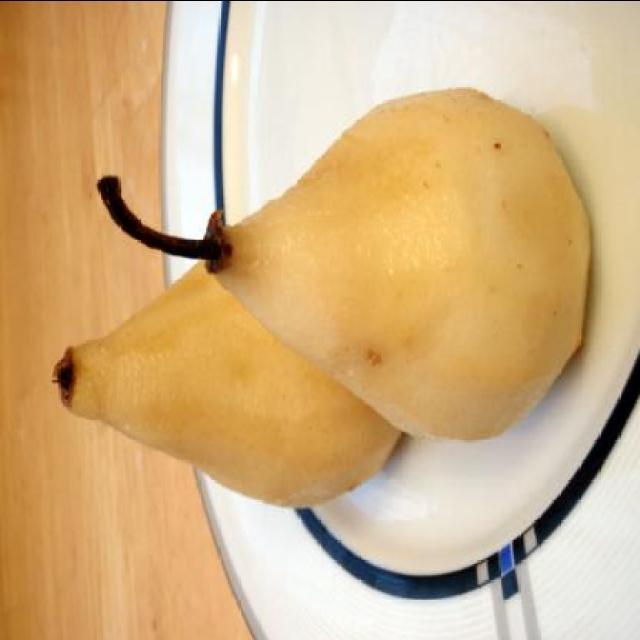Pear: (206, 88, 594, 444), (49, 254, 406, 516), (59, 257, 399, 511)
